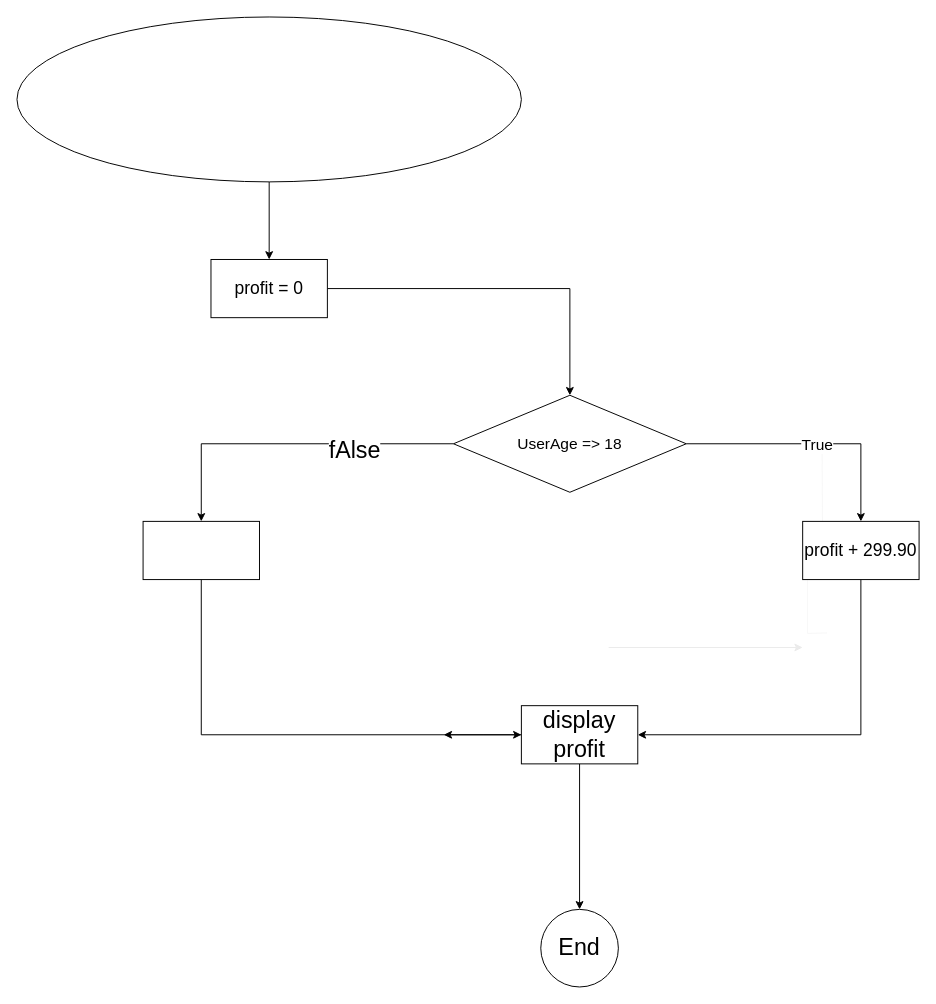
Image size: 936x1004. Some labels were removed from this diagram. Each missing label, with the box of its shape:
profit + 149.90: (142, 520, 259, 580)
Start: (16, 16, 521, 182)
